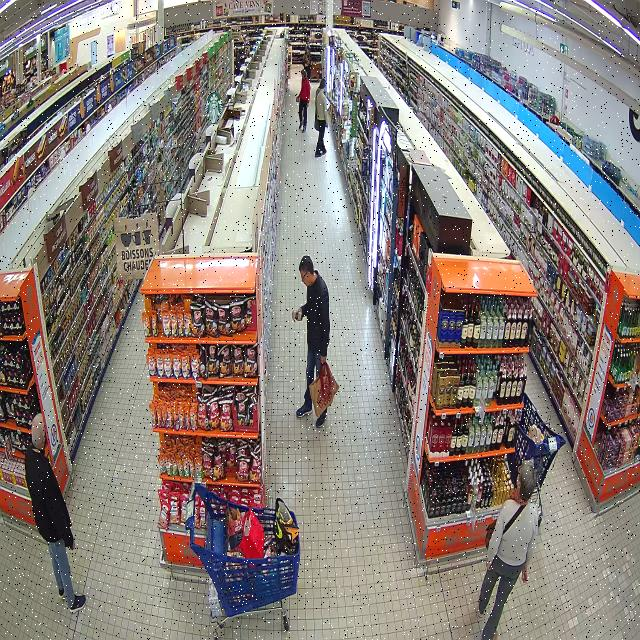article: (292, 309, 301, 321), (296, 97, 299, 102)
bags: (503, 505, 525, 536), (486, 524, 495, 548)
hands: (321, 356, 326, 364), (306, 103, 309, 107), (297, 96, 299, 99)
person: (478, 460, 538, 640), (292, 255, 330, 418), (314, 79, 327, 156), (296, 68, 310, 133)
